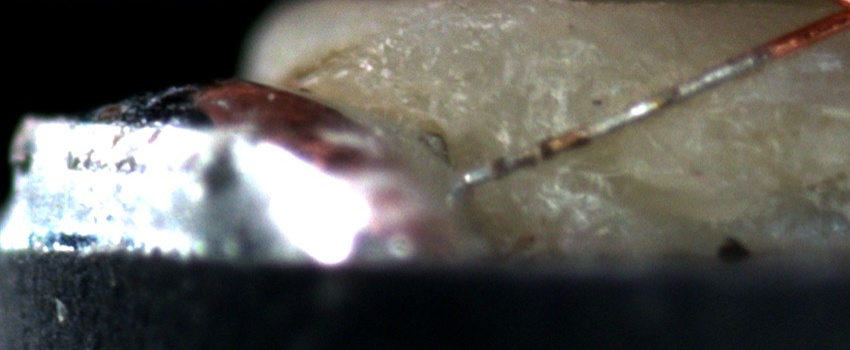CL: (809, 1, 849, 32)
TS: (465, 47, 764, 186)
